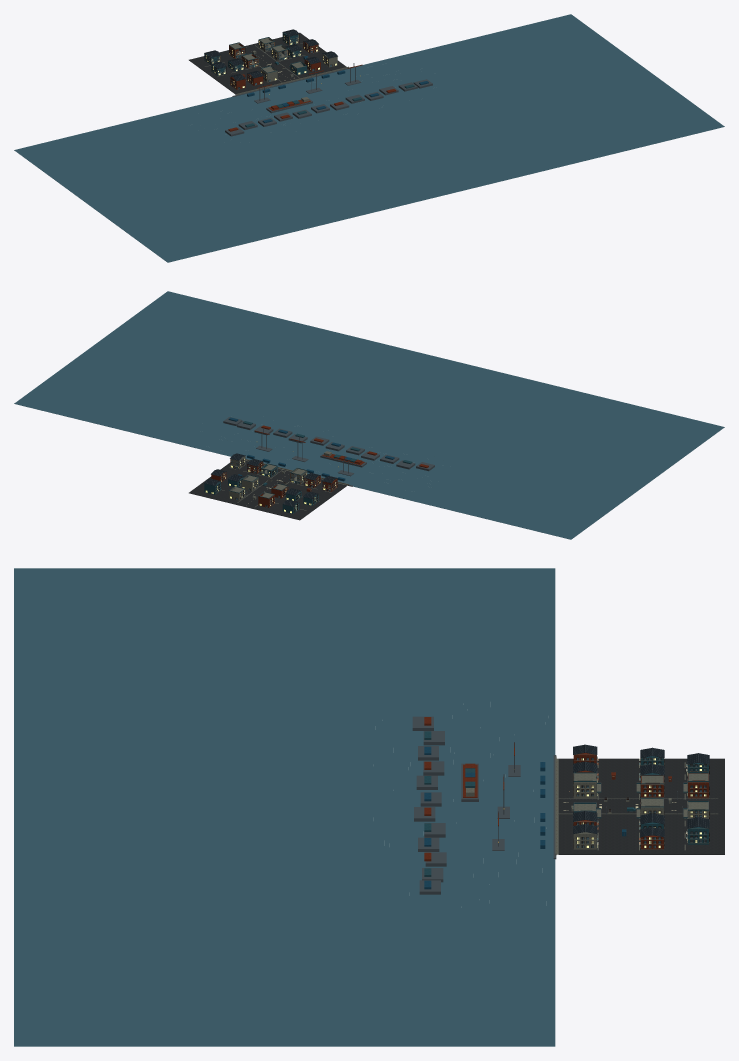
File: harbor-full-high.glb
3 renders of one model, top to bottom at view 1: azimuth 30°, elevation 25°; view 2: azimuth 150°, elevation 25°; view 3: azimuth 270°, elevation 25°, orthographic. The views are drawn at different scales.
Parts seen in each view (by area): view 1: sea, far-harbor; view 2: sea, far-harbor; view 3: sea, far-harbor, ground-3-1, ground-0-1, ground-1-1, ground-2-1.
Part boxes in pixels (bbox=[...]): sea: bbox=[14, 14, 724, 262]; far-harbor: bbox=[225, 70, 432, 136]; sea: bbox=[14, 291, 724, 539]; far-harbor: bbox=[223, 417, 434, 481]; sea: bbox=[14, 568, 555, 1046]; far-harbor: bbox=[412, 716, 545, 894]; ground-3-1: bbox=[600, 830, 641, 854]; ground-0-1: bbox=[600, 758, 640, 782]; ground-1-1: bbox=[600, 782, 640, 806]; ground-2-1: bbox=[600, 806, 640, 830].
Bounding box in the file's own units: 640 × 25.22 × 402.
18 materials, 7 textured.
